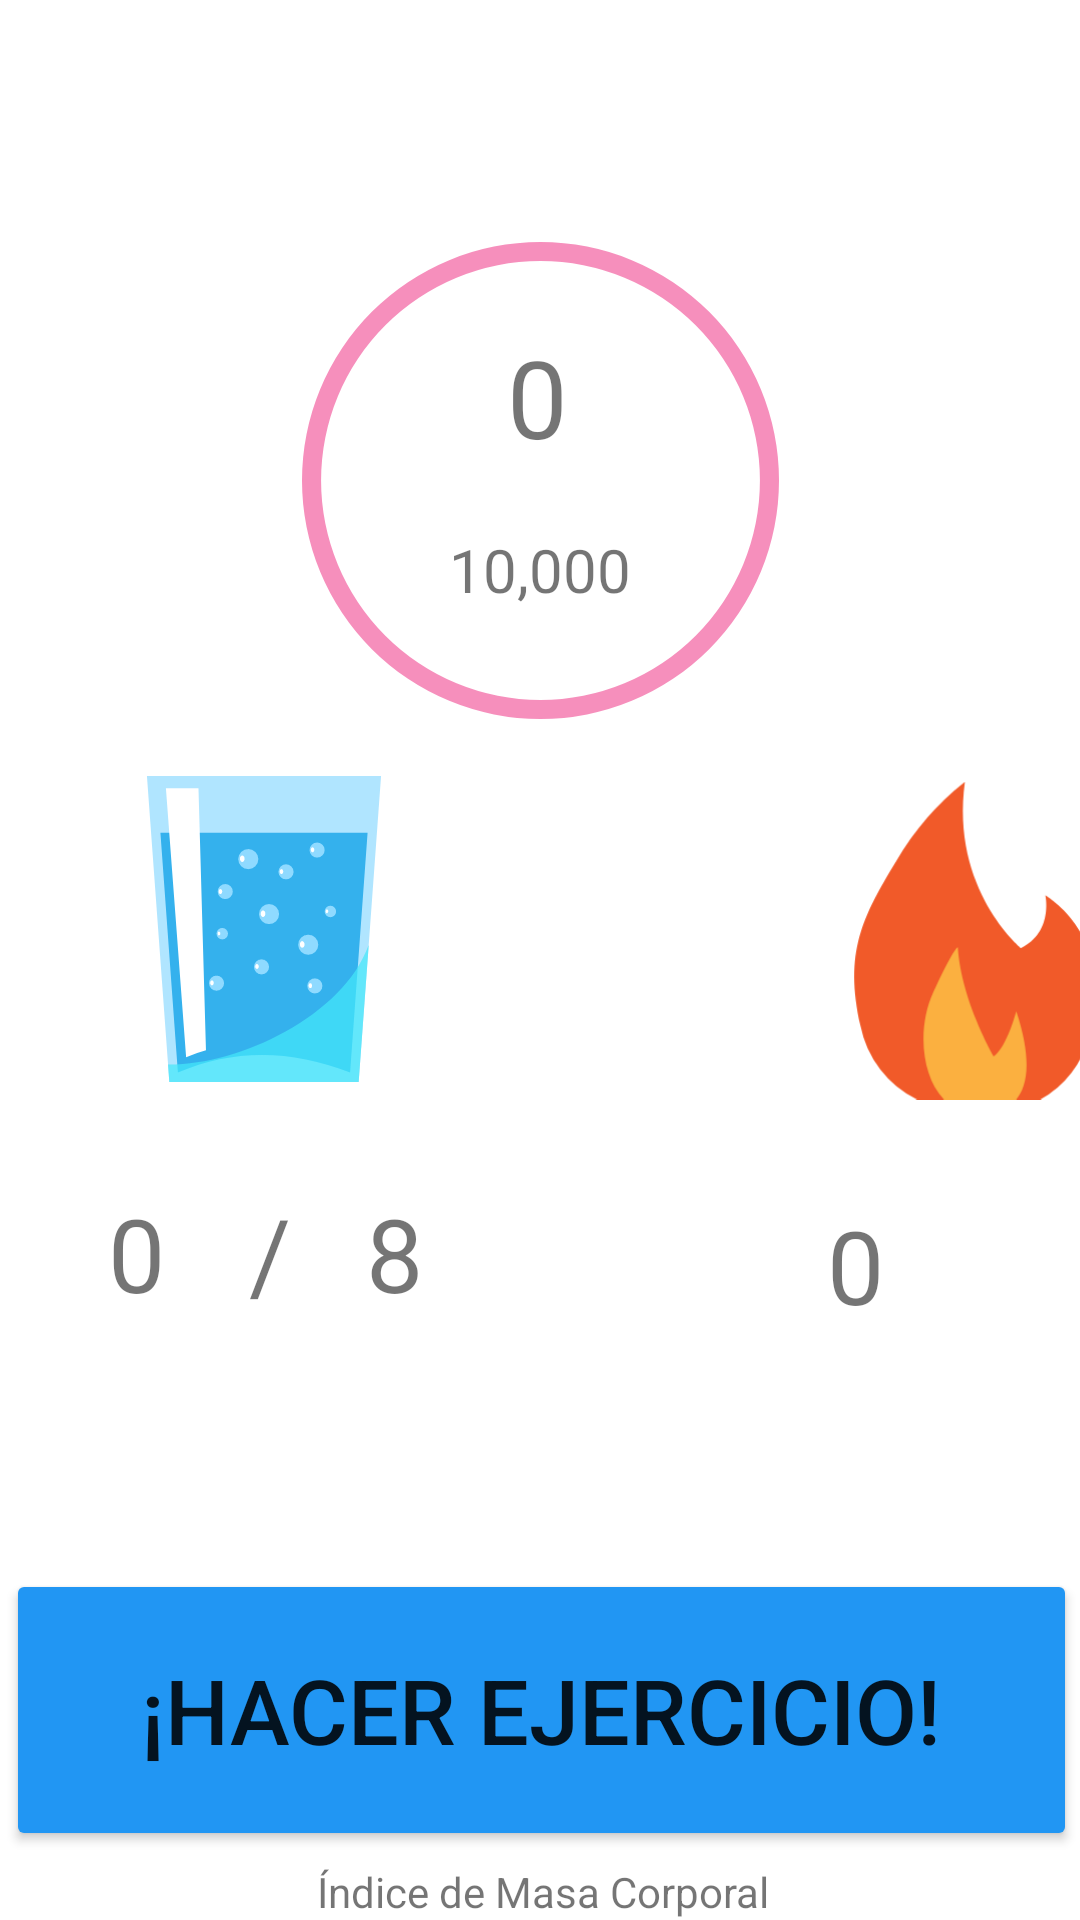

Screen size 1080w x 1920h. Icon name, then its box in pixels as (x1, y1, x2, y2):
vaso: (147, 776, 381, 1082)
